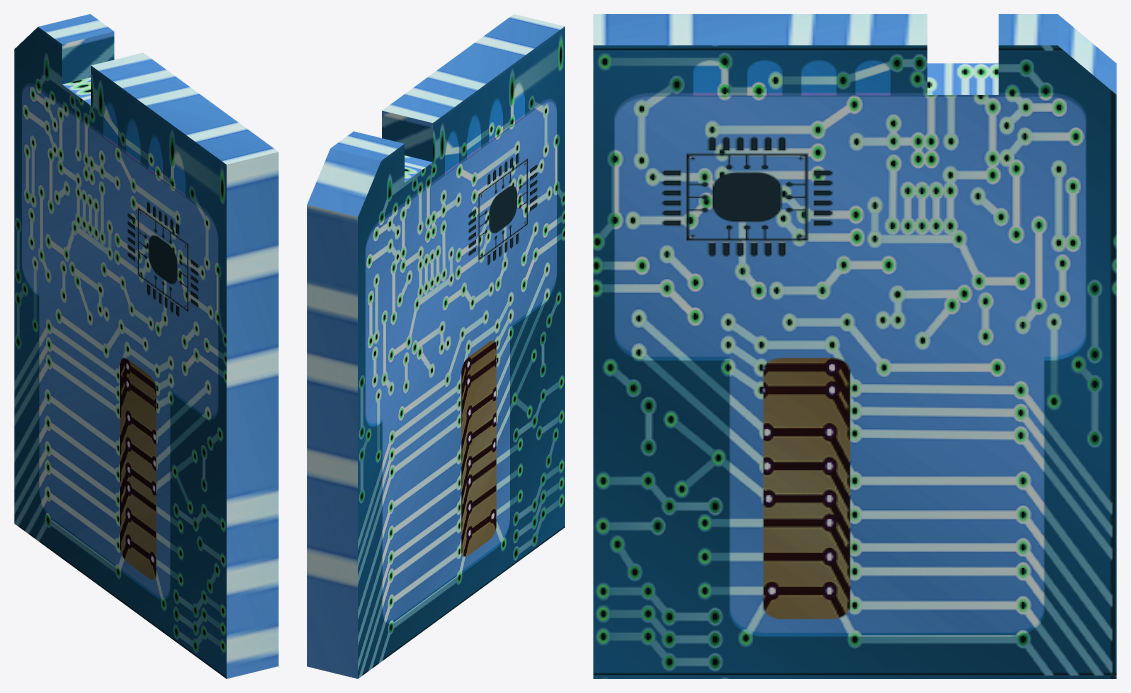
File: keycard_blue.glb
3 views of the same model, side by side, from view 1: azimuth 30°, elevation 25°; view 2: azimuth 150°, elevation 25°; view 3: azimuth 270°, elevation 25° (orthographic). The views are drawn at different scales.
Visible parts, largest first — view 1: Cube; view 2: Cube; view 3: Cube.
Boxes of the visible parts, x1,y1,x2,y2 form: Cube: (14, 14, 278, 678); Cube: (307, 14, 564, 678); Cube: (593, 14, 1116, 678).
Bounding box in the file's own units: 0.2926 × 2.75 × 2.06.
Materials: 1 (1 with a texture image).
